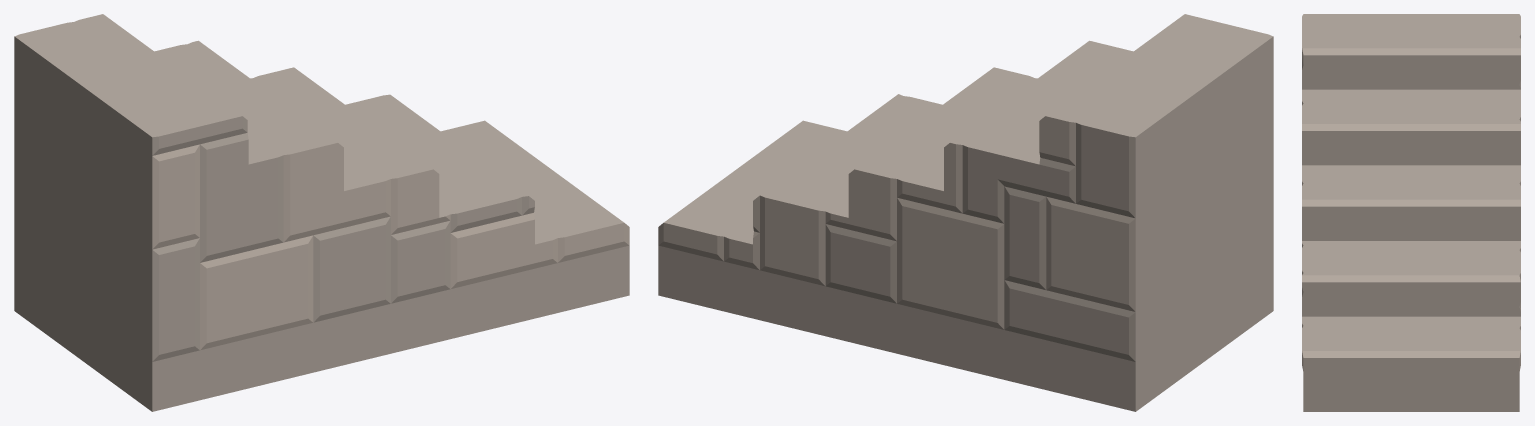
File: escalerasPiedra2.glb
3 renders of one model, left to right at view 1: azimuth 30°, elevation 25°; view 2: azimuth 150°, elevation 25°; view 3: azimuth 270°, elevation 25°, orthographic. The views are drawn at different scales.
Parts seen in each view (by area): view 1: object1; view 2: object1; view 3: object1.
Part boxes in pixels (box(x1,y1,x2,y2)): object1: box(14, 14, 629, 411); object1: box(658, 14, 1273, 411); object1: box(1302, 14, 1520, 411).
Size of the model in its own units: 2 by 1.1 by 1.01.
